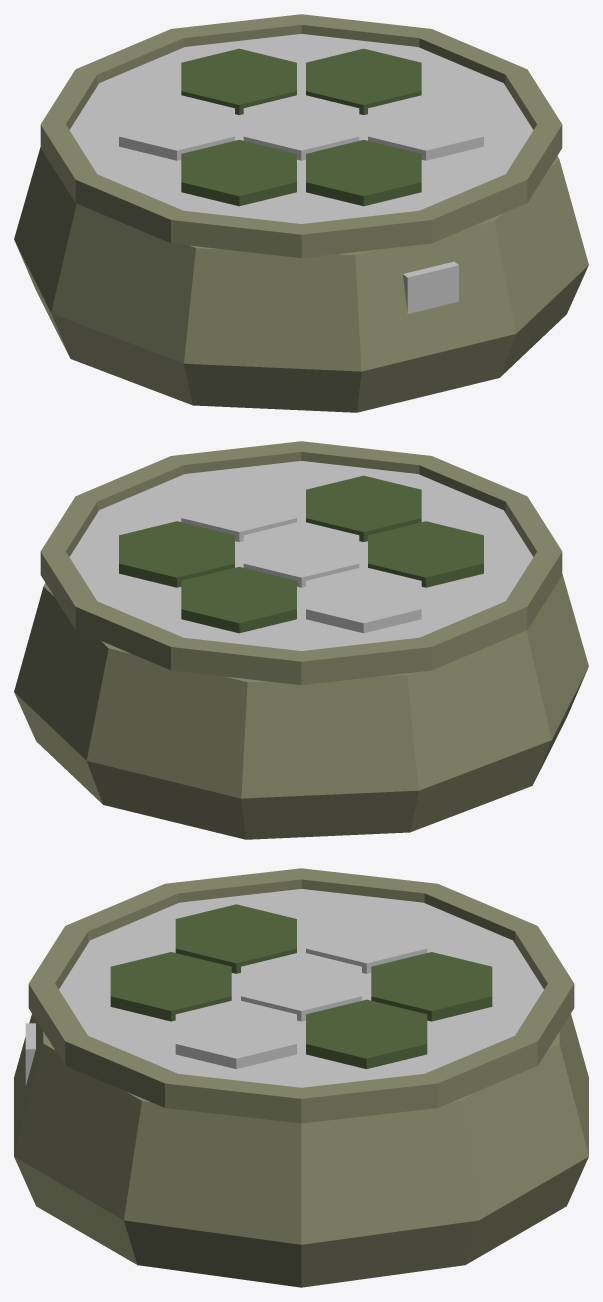
The model's file is countdown.obj.
3 views of the same model, one above another, from view 1: azimuth 30°, elevation 25°; view 2: azimuth 150°, elevation 25°; view 3: azimuth 270°, elevation 25° (orthographic). The views are drawn at different scales.
Parts seen in each view (by area): view 1: countdown; view 2: countdown; view 3: countdown.
Boxes of the visible parts, x1=… form: countdown: x1=14, y1=14, x2=588, y2=412; countdown: x1=14, y1=441, x2=588, y2=839; countdown: x1=14, y1=868, x2=588, y2=1287.
Bounding box in the file's own units: 0.78 × 0.268 × 0.7418.
